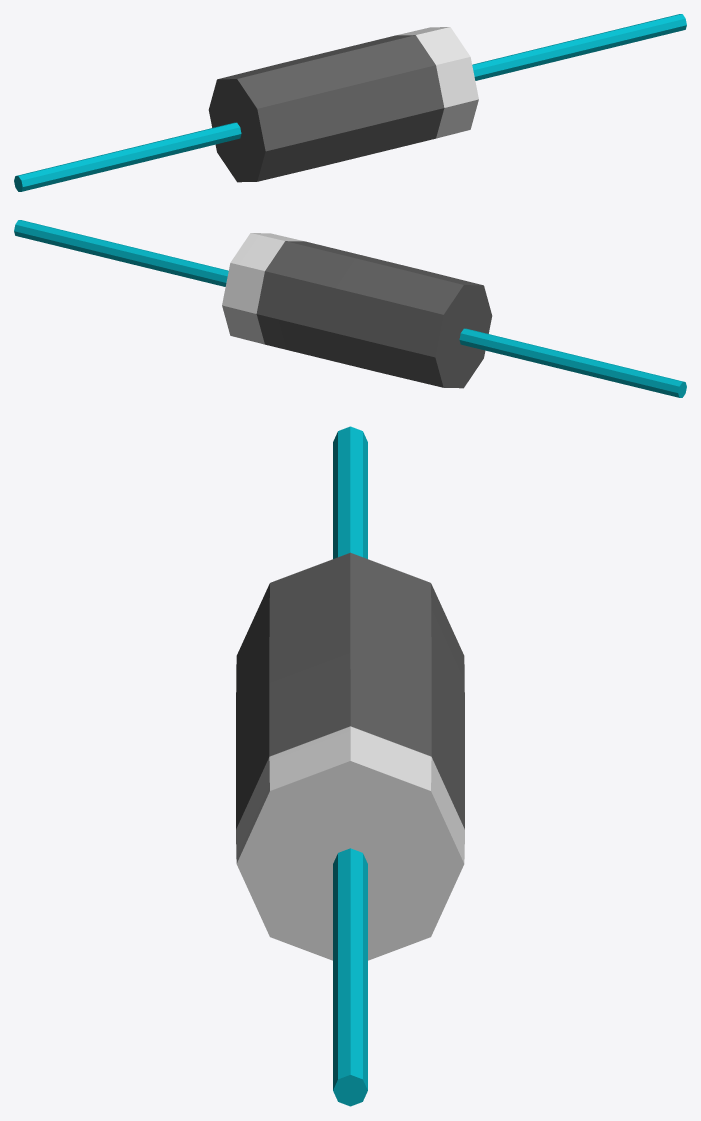
The model's file is P_N_junction_DIODE.fbx.
3 renders of one model, top to bottom at view 1: azimuth 30°, elevation 25°; view 2: azimuth 150°, elevation 25°; view 3: azimuth 270°, elevation 25°, orthographic. The views are drawn at different scales.
Visible parts, largest first — view 1: P_N_Junction_diode_normal; view 2: P_N_Junction_diode_normal; view 3: P_N_Junction_diode_normal.
Part boxes in pixels (x1,y1,x2,y2): P_N_Junction_diode_normal: (14,14,686,191); P_N_Junction_diode_normal: (14,220,686,397); P_N_Junction_diode_normal: (236,426,464,1106).
Bounding box in the file's own units: 40.29 × 6.02 × 6.02.
